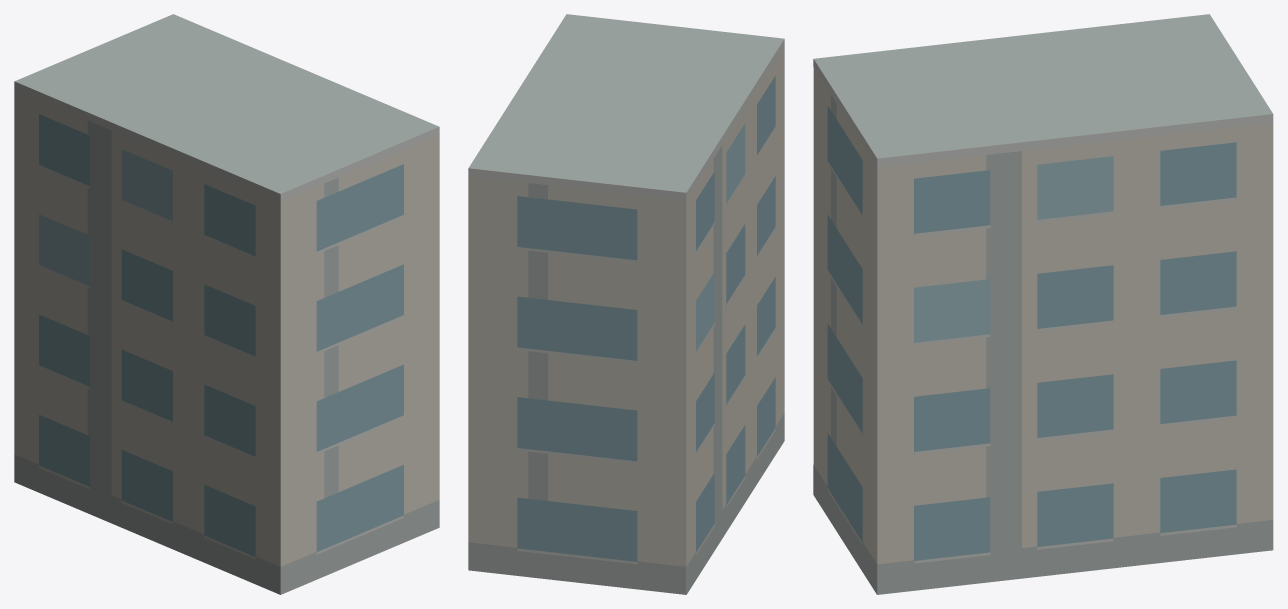
The model's file is survey-upis-32512181.glb.
3 renders of one model, left to right at view 1: azimuth 30°, elevation 25°; view 2: azimuth 150°, elevation 25°; view 3: azimuth 270°, elevation 25°, orthographic. The views are drawn at different scales.
Visible parts, largest first — view 1: survey-upis-32512181.tmp; view 2: survey-upis-32512181.tmp; view 3: survey-upis-32512181.tmp.
Boxes of the visible parts, left/top/right/bottom form: survey-upis-32512181.tmp: left=14, top=14, right=439, bottom=594; survey-upis-32512181.tmp: left=468, top=14, right=784, bottom=594; survey-upis-32512181.tmp: left=813, top=14, right=1273, bottom=594.
Bounding box in the file's own units: 8.68 × 12.2 × 11.66.
